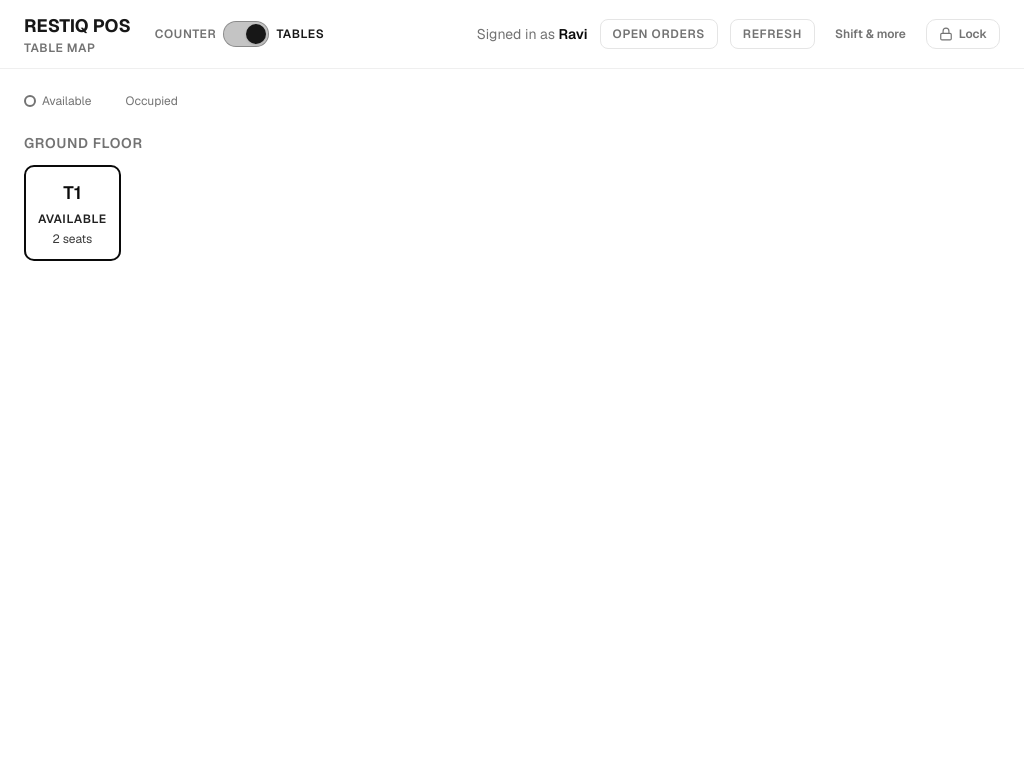
Test: TableMap › reflects the server's real owner after a get-or-claim race (openOrClaimTable can return a pre-existing order owned by someone else), requiring transfer on a sec
This screenshot has width=1024, height=768.
Expected: the element with test id "table-map" is shown, [0, 0, 1023, 285]
Click the button with test id "table-tile-t1" at (72, 213), box [24, 165, 121, 261]
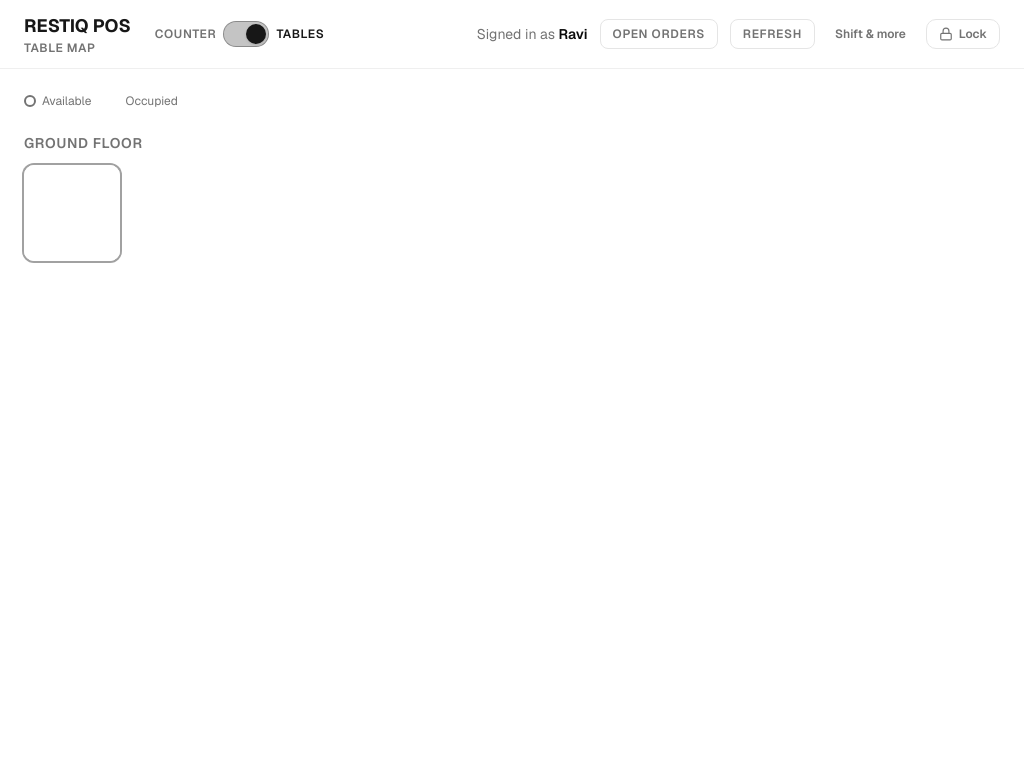
Click the button with test id "table-tile-t1" at (72, 213), box [24, 165, 120, 261]
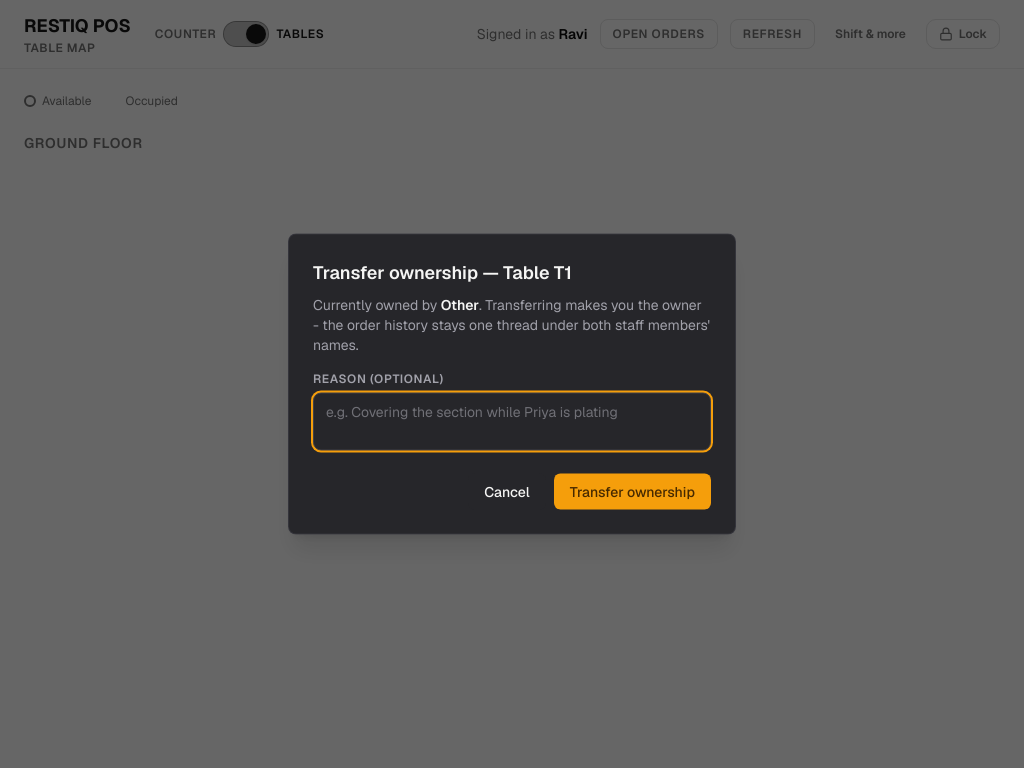
Result: the dialog with test id "transfer-ownership-dialog" shows "Other" at [441, 296, 479, 314]
